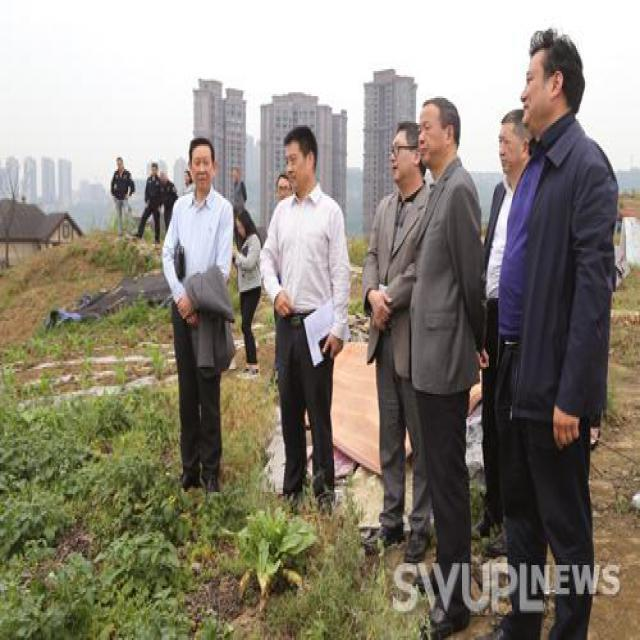head: (517, 30, 586, 134), (417, 91, 463, 170), (280, 120, 321, 193), (492, 107, 534, 178), (388, 118, 424, 184), (185, 132, 219, 195), (233, 209, 257, 241)
person: (499, 24, 625, 638), (258, 116, 359, 519), (415, 92, 488, 640), (352, 114, 432, 565), (156, 133, 240, 495), (108, 155, 140, 240)
